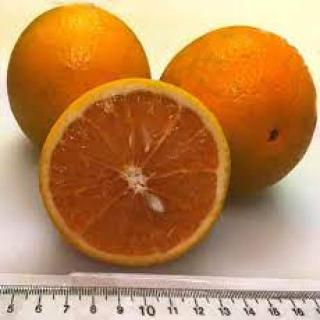orange: (33, 73, 237, 273), (162, 24, 320, 226), (4, 0, 157, 183)
